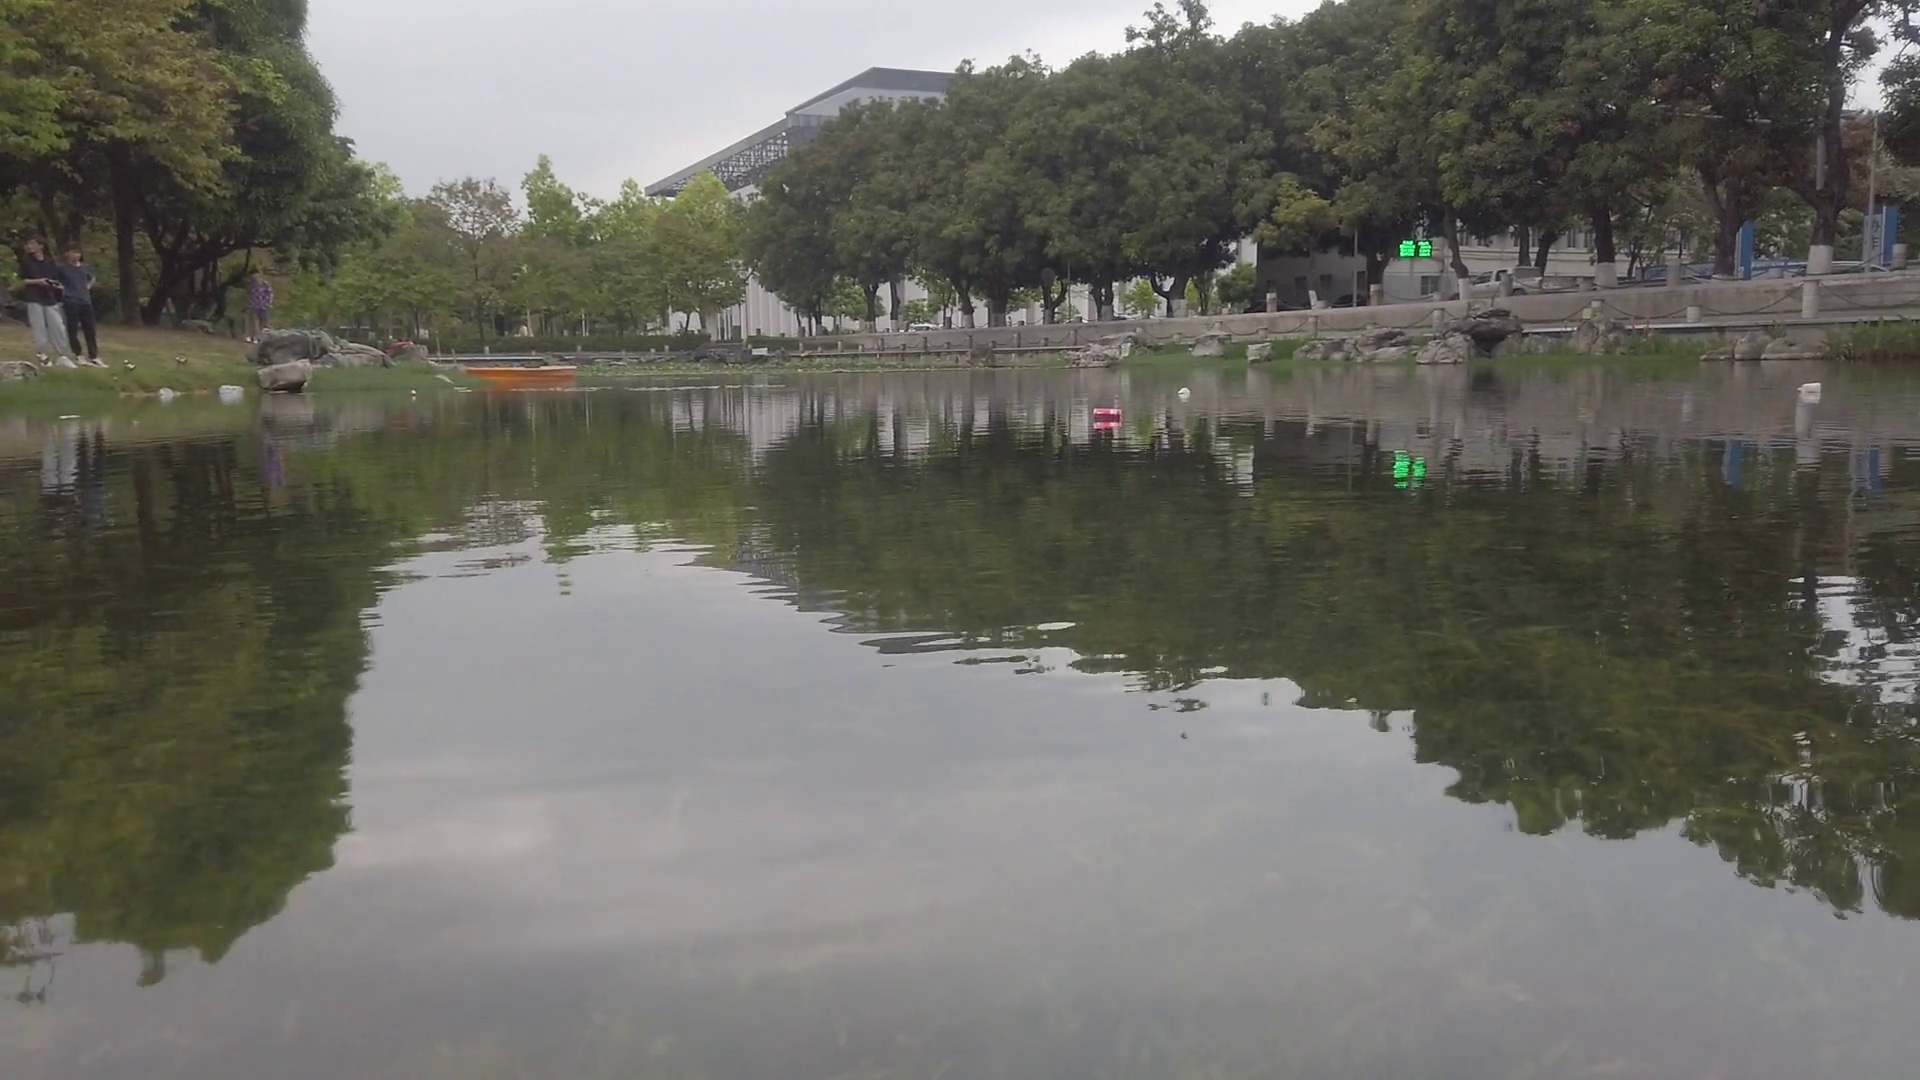bottle: (1092, 407, 1121, 421), (410, 389, 418, 394)
carton: (1800, 382, 1821, 394)
paper: (59, 411, 82, 423)
plastic: (219, 384, 247, 396), (158, 386, 178, 398), (1179, 386, 1191, 397)
